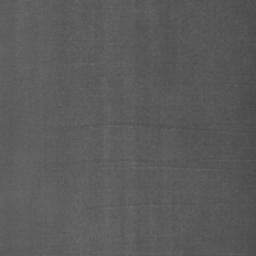Waist folding: (82, 158, 200, 172), (61, 121, 175, 130), (89, 202, 180, 208)
